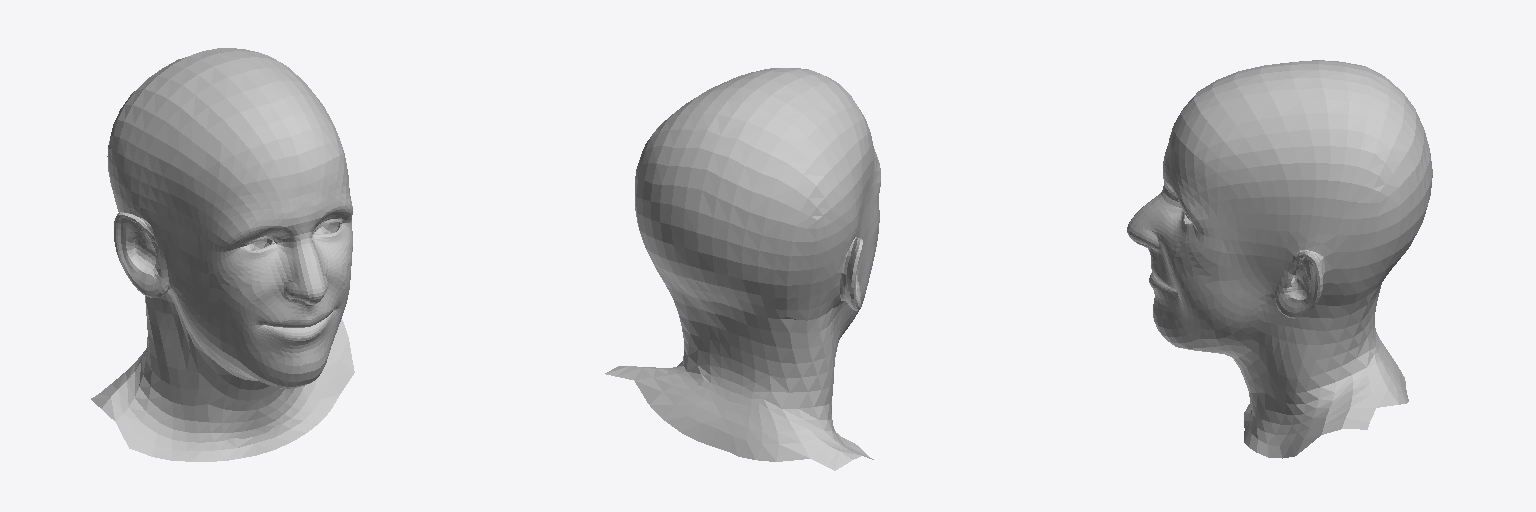
Rendered from 02_HeadGen.obj.
The picture shows the model from 3 angles: view 1: azimuth 30°, elevation 25°; view 2: azimuth 150°, elevation 25°; view 3: azimuth 270°, elevation 25°; orthographic projection.
Visible parts, largest first — view 1: CC_Base_Body; view 2: CC_Base_Body; view 3: CC_Base_Body.
Boxes of the visible parts, box(x1,y1,x2,y2) form: CC_Base_Body: box(91, 48, 354, 461); CC_Base_Body: box(605, 68, 880, 470); CC_Base_Body: box(1127, 60, 1432, 458).
Bounding box in the file's own units: 19.8 × 28.85 × 21.92.